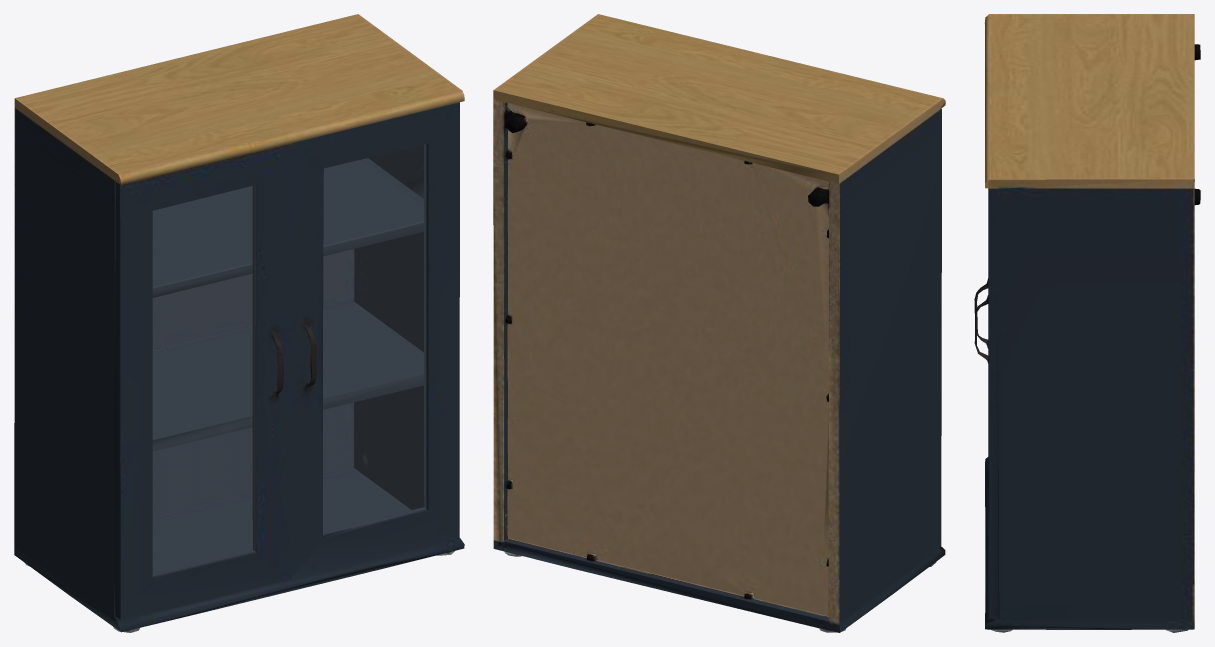
The model's file is 23 - SKRUVBY Cabinet with glass doors - black-blue 70x90 cm.glb.
The picture shows the model from 3 angles, left to right: view 1: azimuth 30°, elevation 25°; view 2: azimuth 150°, elevation 25°; view 3: azimuth 270°, elevation 25°; orthographic projection.
Visible parts, largest first — view 1: 1; view 2: 1; view 3: 1.
Part boxes in pixels (<box>): 1: <box>14,14,464,632</box>; 1: <box>493,14,945,632</box>; 1: <box>974,14,1200,632</box>.
Size of the model in its own units: 0.7035 by 0.9013 by 0.4053.
2 materials, 2 textured.
